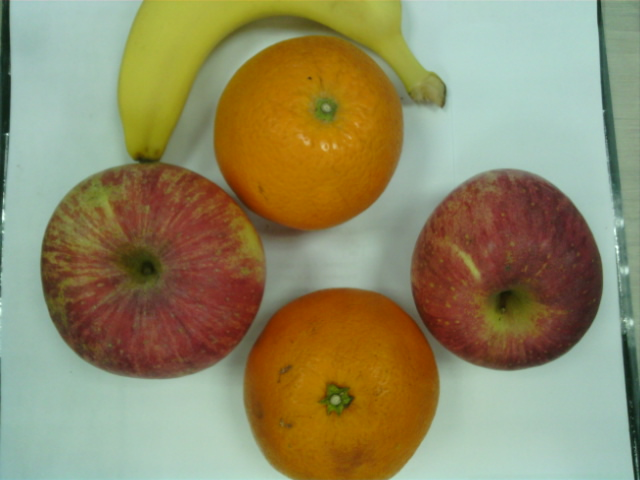normal_apple: (41, 163, 267, 379), (411, 169, 604, 372)
normal_banana: (119, 2, 445, 161)
normal_orange: (244, 289, 440, 480), (215, 37, 403, 232)
